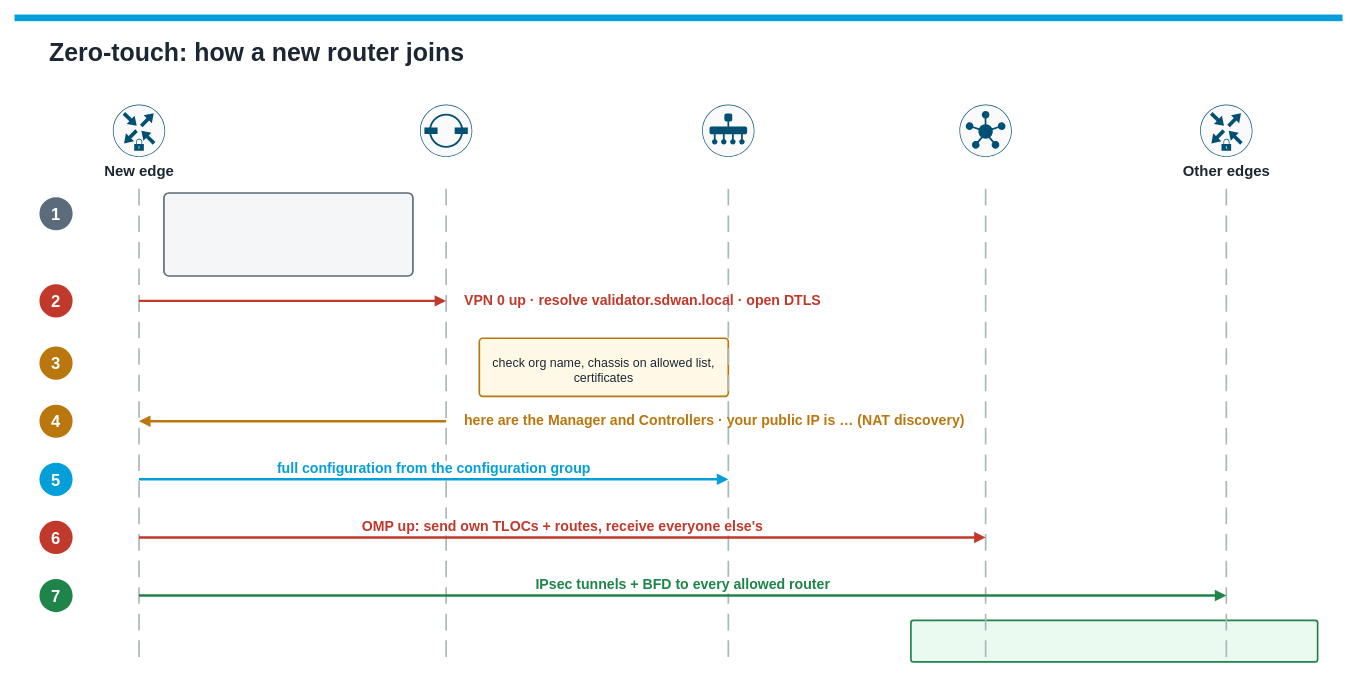
This 1356x684 diagram has some shape labels left out. The box of each missing label's shape, as (x1, y1, x2, y2) in pixels:
= zero-touch provisioning (≈ 10 min in the lab): (910, 619, 1318, 662)
bootstrap file: chassis + OTP, Validator name, org name, root CA: (163, 192, 413, 276)
Controller: (959, 104, 1012, 157)
Manager: (701, 104, 754, 157)
Validator: (419, 104, 472, 157)
